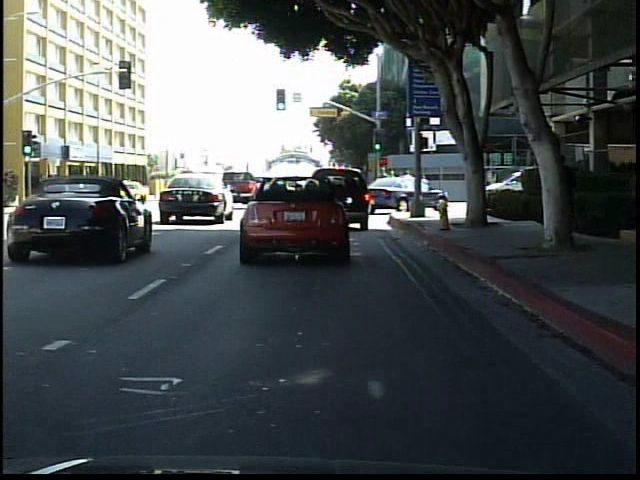person: (545, 150, 570, 240), (375, 165, 397, 211), (118, 176, 136, 203)
